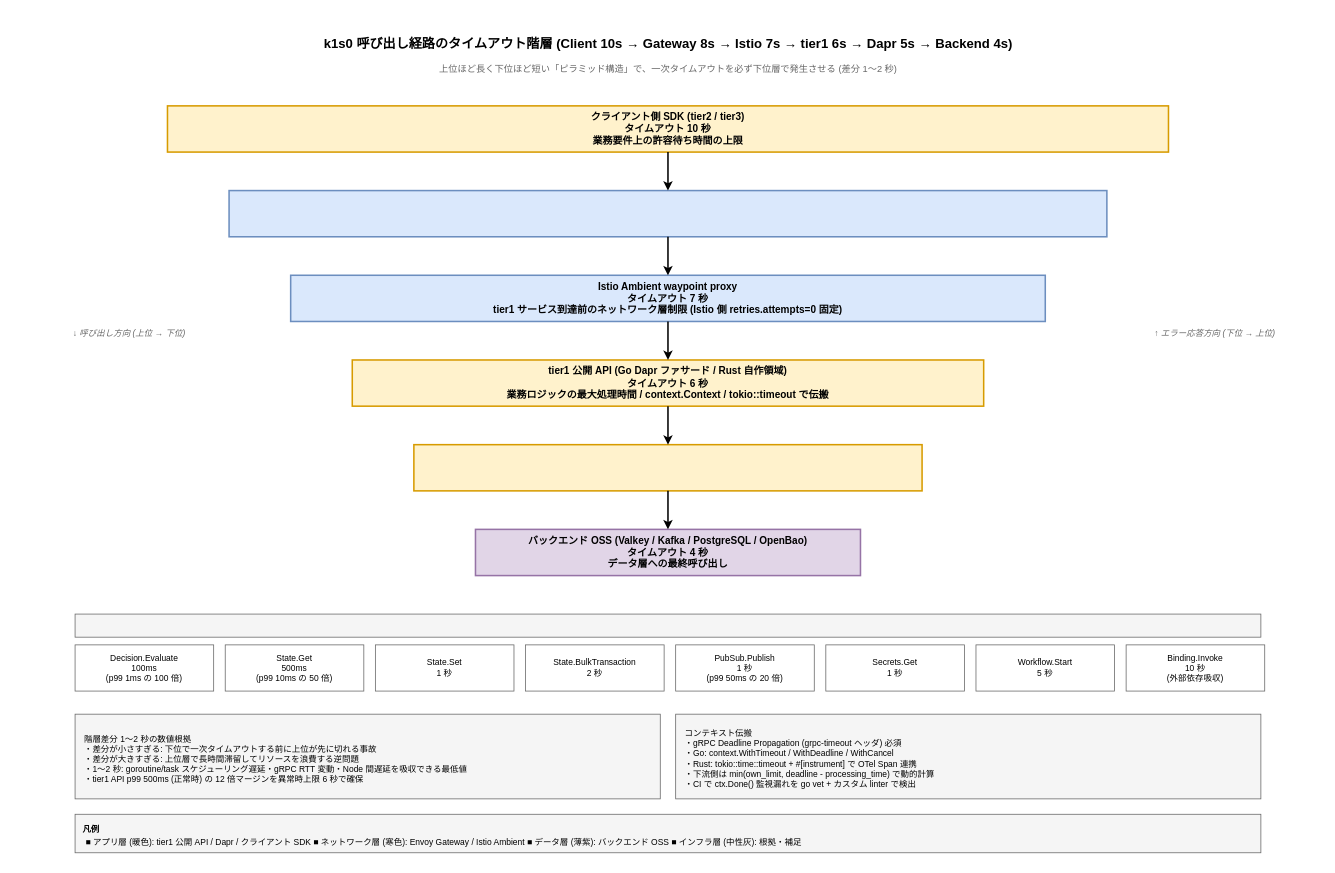
The diagram is 1335 pixels wide and 873 high, and some of its shapes have lost their labels. The centre of each missing label's shape, as x and y in pixels:
"API 別個別タイムアウト (層別と min() で適用)" goes at point 667,625.
"Dapr Building Block (daprd sidecar) タイムアウト 5 秒 SDK 呼び出し完了までの制限" goes at point 667,467.
"Envoy Gateway タイムアウト 8 秒 外部境界での最終防衛線 / JWT 検証含む" goes at point 667,213.
